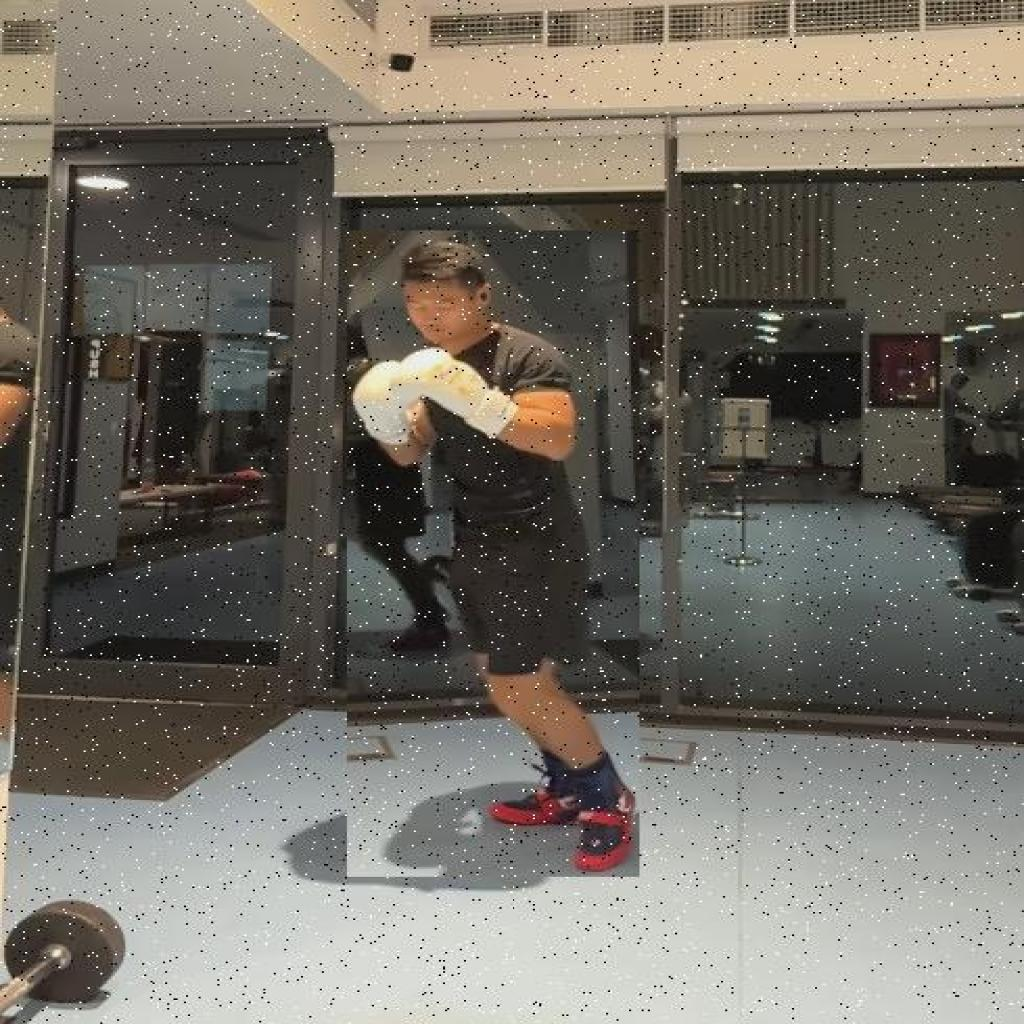no punch: (347, 230, 638, 876)
